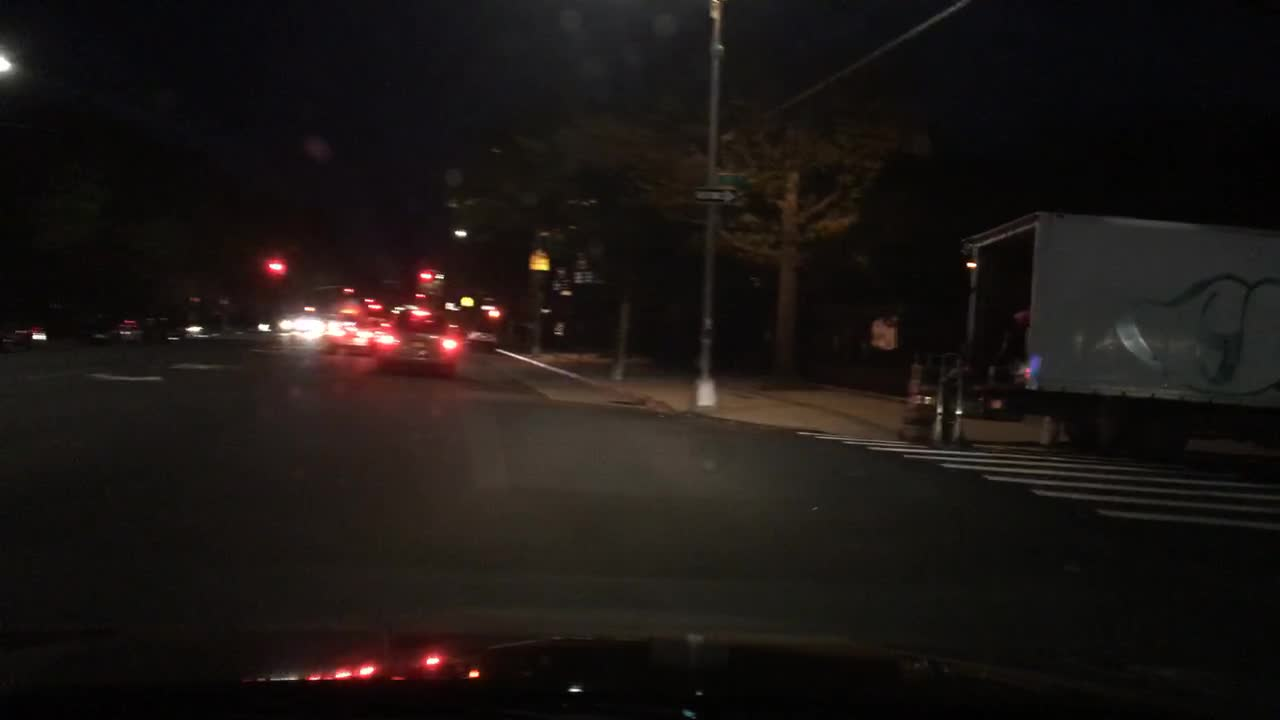car: (369, 302, 459, 377), (324, 313, 369, 359), (456, 319, 497, 353), (0, 326, 49, 354), (91, 323, 145, 344), (164, 322, 223, 341), (277, 313, 323, 333), (248, 319, 272, 336)
traffic light: (263, 258, 287, 275), (416, 270, 434, 281), (483, 309, 503, 318), (341, 285, 353, 293), (413, 290, 425, 297)
traffic sign: (528, 246, 551, 272), (690, 188, 735, 201), (715, 173, 744, 186), (461, 294, 473, 306)
truck: (952, 206, 1278, 462)
